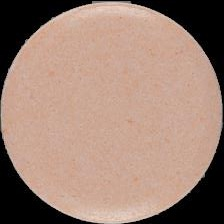61786-509: (0, 0, 224, 224)
